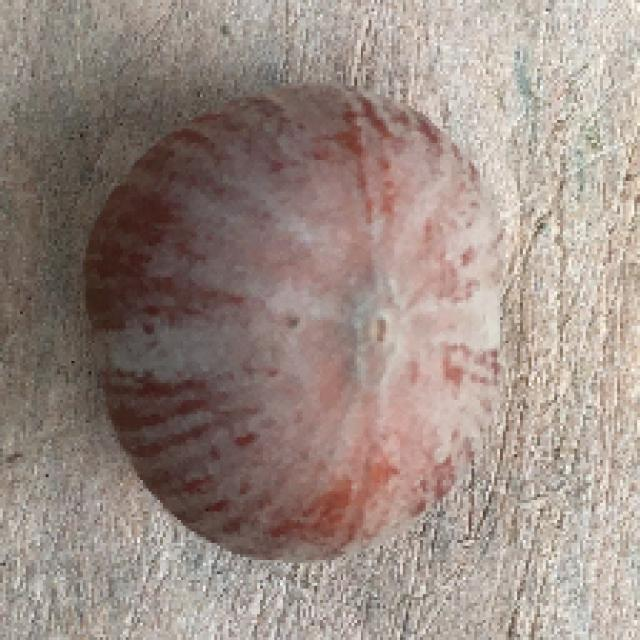qualityHazelnut: (79, 78, 518, 564)
